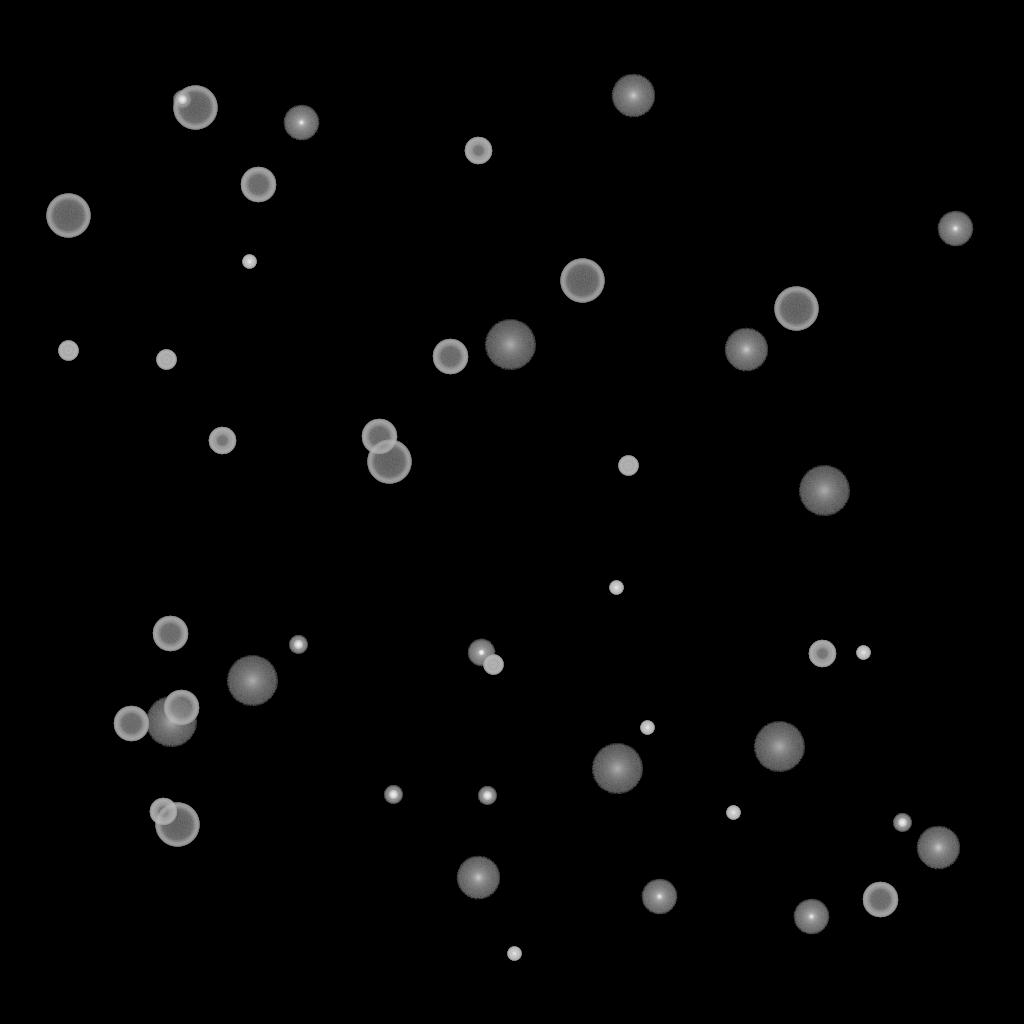depth:-10: (467, 639, 495, 667)
depth:-20: (893, 814, 911, 832), (478, 787, 496, 805), (384, 786, 402, 804), (173, 91, 191, 109), (289, 636, 307, 654)
depth:-30: (640, 721, 654, 735), (609, 581, 623, 595), (507, 947, 521, 961), (856, 646, 870, 660), (242, 255, 256, 269), (726, 806, 740, 820)
depth:-40: (483, 655, 503, 675), (618, 456, 638, 476), (58, 341, 78, 361), (156, 350, 176, 370)
depth:-50: (464, 137, 492, 165), (808, 640, 836, 668), (149, 798, 177, 826), (208, 427, 236, 455)
depth:-60: (361, 419, 397, 455), (862, 882, 898, 918), (240, 167, 276, 203), (163, 690, 199, 726), (432, 339, 468, 375), (152, 616, 188, 652), (113, 706, 149, 742)
depth:-70: (155, 803, 199, 847), (173, 86, 217, 130), (560, 259, 604, 303), (774, 287, 818, 331), (46, 194, 90, 238), (367, 440, 411, 484)
depth:0: (641, 879, 677, 915), (283, 105, 319, 141), (793, 899, 829, 935), (937, 211, 973, 247)
depth:10: (724, 328, 768, 372), (611, 74, 655, 118), (456, 856, 500, 900), (916, 826, 960, 870)
depth:20: (226, 656, 278, 706), (798, 466, 850, 516), (484, 320, 536, 370), (753, 722, 805, 772), (145, 697, 197, 747), (591, 744, 643, 794)
